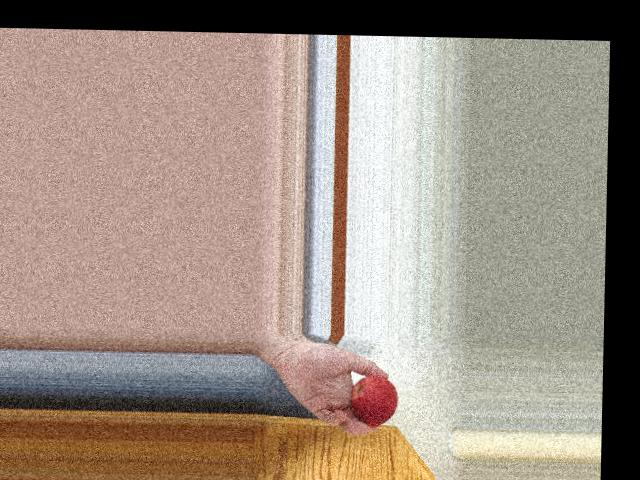apple: (343, 369, 399, 426)
